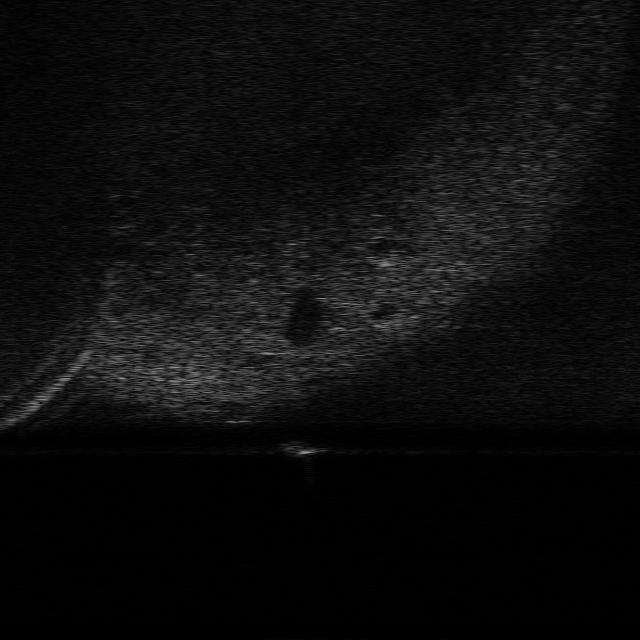cube: (280, 440, 334, 459)
